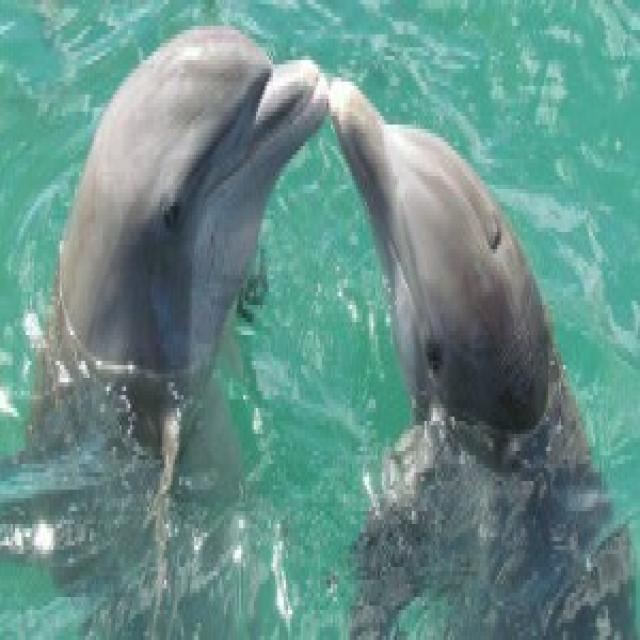Dolphin: (15, 13, 328, 640), (330, 33, 626, 640)
